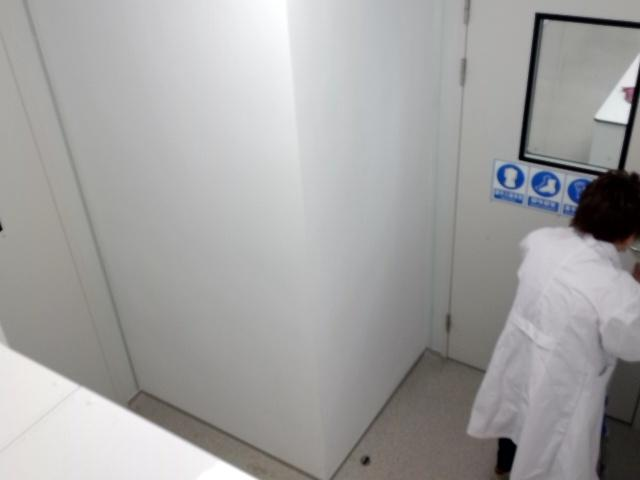Lab_coat: (468, 171, 639, 479)
